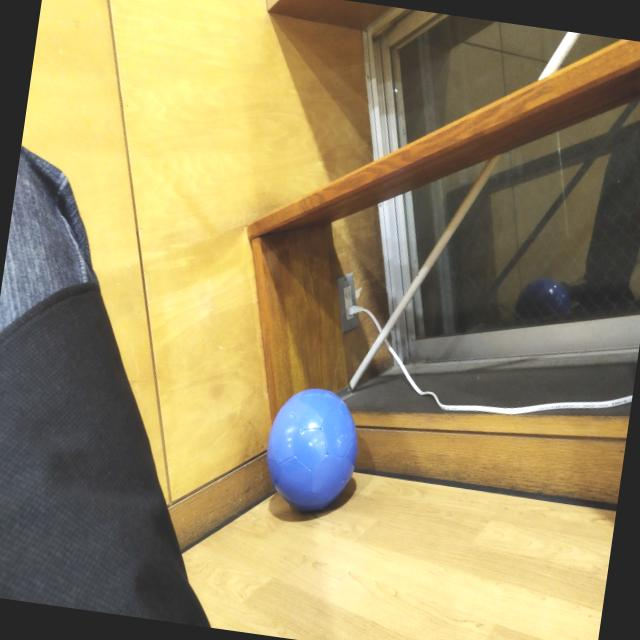blue_ball: (256, 384, 366, 519)
